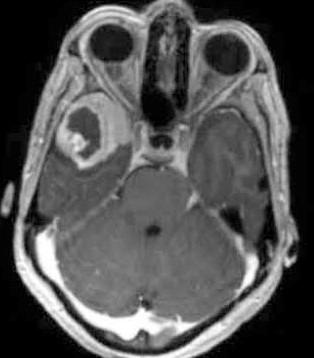Tumour-Meningioma: (55, 96, 120, 181)
